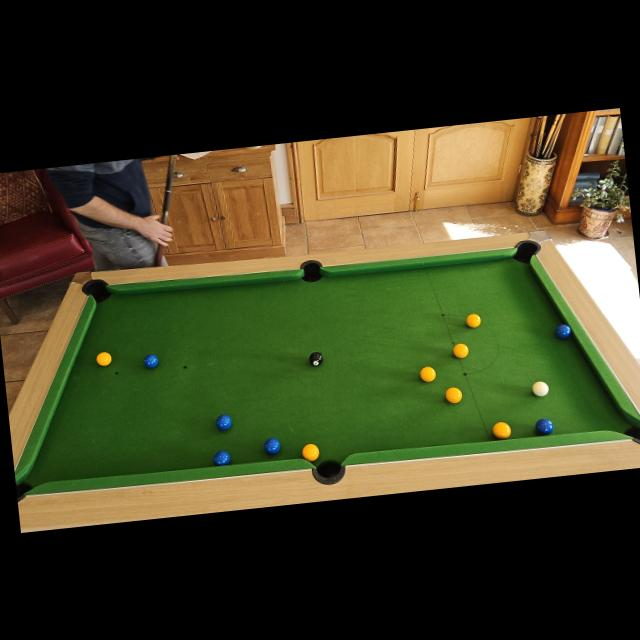Ball: (534, 416, 554, 436), (492, 421, 512, 440), (300, 442, 319, 462), (262, 436, 282, 455), (211, 449, 231, 467), (444, 386, 463, 404), (214, 414, 232, 432), (532, 380, 550, 397), (554, 323, 571, 340), (453, 342, 469, 358), (419, 366, 435, 382), (308, 351, 324, 366), (96, 352, 112, 366), (466, 312, 480, 328), (142, 354, 158, 368)
